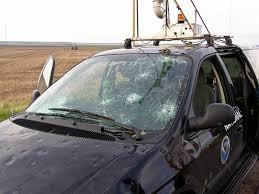Front-Windscreen-Damage: (70, 53, 176, 123)
bonnet-dent: (2, 120, 110, 187)
doorouter-dent: (191, 56, 233, 193)
fender-dent: (126, 146, 184, 193)
